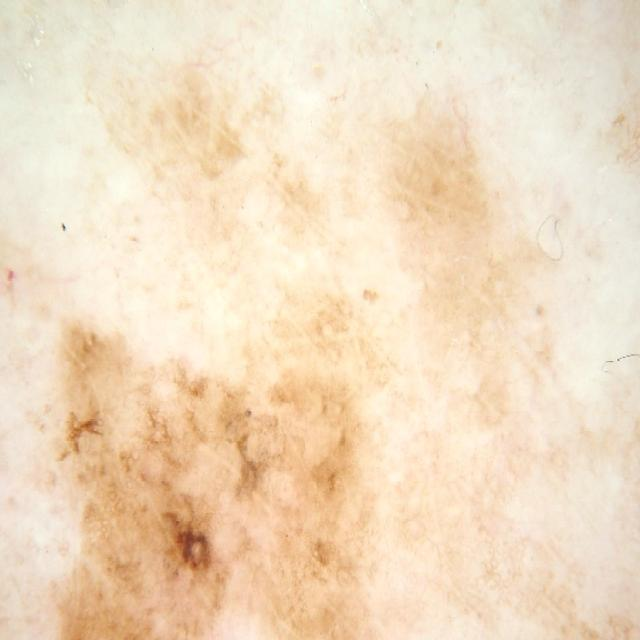Melanoma: (31, 282, 413, 640)
